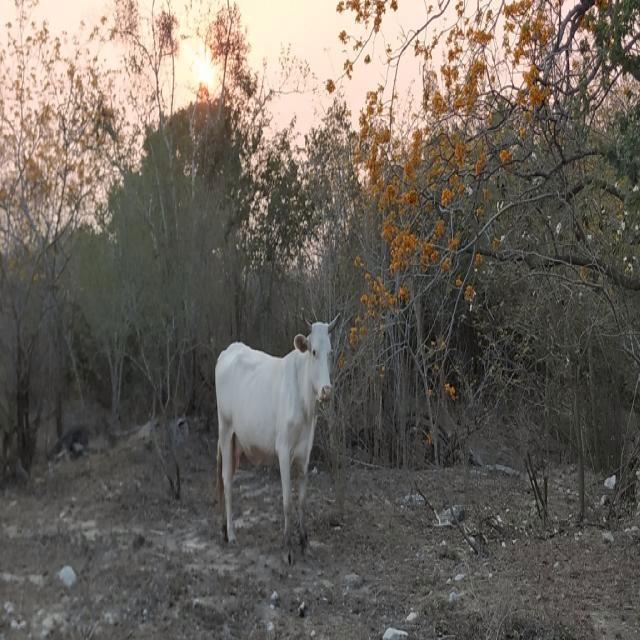cow: (215, 321, 334, 563)
